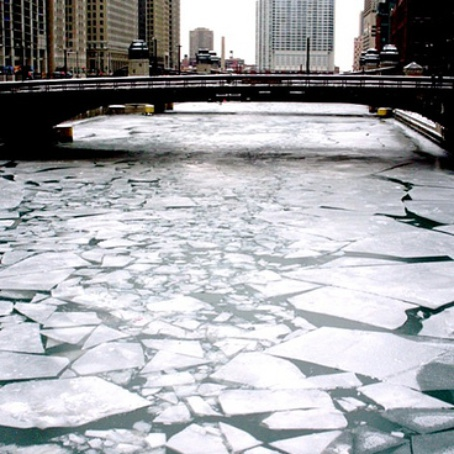bridge: (1, 49, 454, 156)
building: (1, 1, 184, 72), (257, 1, 342, 79), (184, 23, 214, 67)
river: (1, 123, 454, 454)
